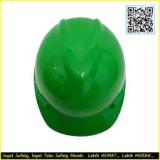Helmet: (34, 15, 126, 137)
